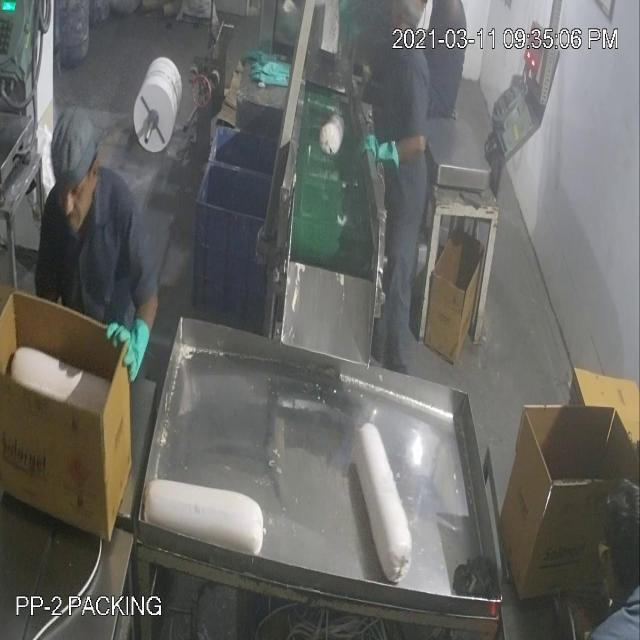Gloves: (42, 72, 382, 346)
